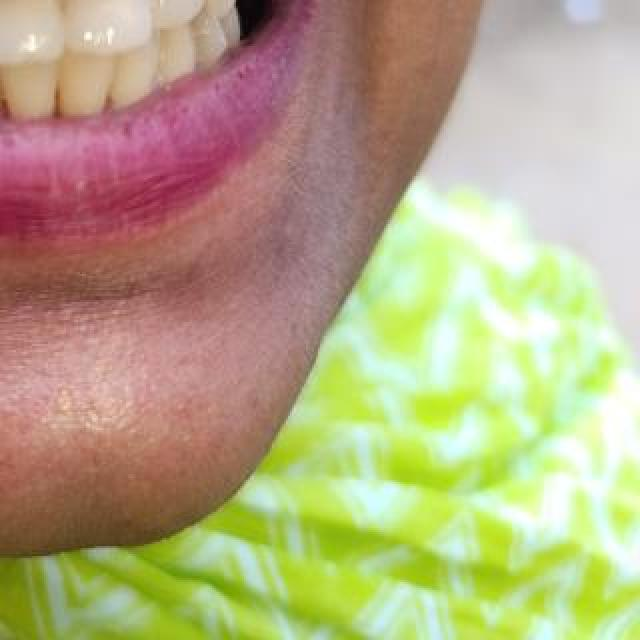plaque: (183, 21, 233, 89), (149, 42, 183, 120), (97, 53, 133, 109), (140, 0, 186, 16), (198, 0, 240, 6)
